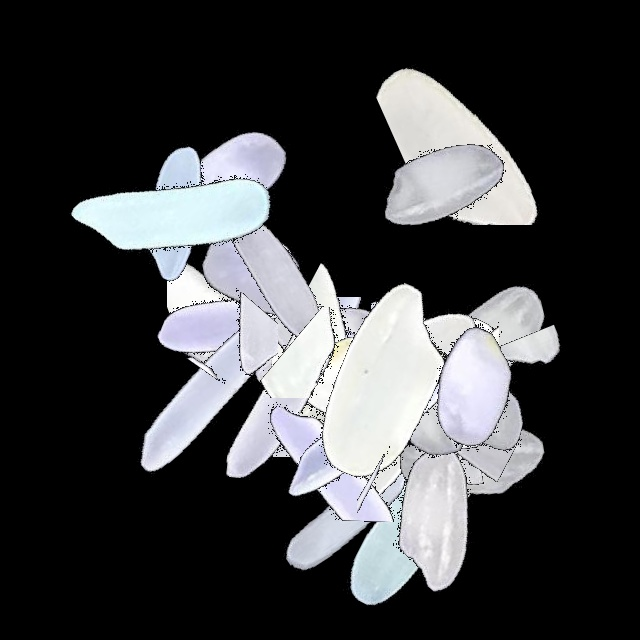Broken: (363, 54, 613, 225), (252, 311, 418, 561), (271, 252, 436, 502), (316, 344, 566, 499), (371, 223, 519, 473), (167, 169, 306, 419), (184, 328, 434, 457), (285, 361, 535, 486), (202, 292, 452, 417), (153, 227, 278, 477), (252, 297, 502, 418), (383, 227, 499, 477), (357, 390, 464, 640), (283, 223, 386, 473), (312, 331, 562, 433), (331, 356, 423, 606), (487, 257, 578, 507), (218, 307, 468, 398), (258, 373, 508, 463), (299, 382, 549, 471), (375, 238, 460, 488), (195, 339, 445, 421), (160, 343, 410, 419)
Full: (362, 213, 612, 463), (292, 390, 542, 640), (225, 390, 475, 640), (277, 239, 527, 489), (133, 207, 383, 457), (259, 292, 509, 542), (152, 212, 402, 462), (82, 267, 332, 517), (346, 337, 596, 587), (108, 48, 358, 298), (194, 225, 444, 475), (129, 150, 379, 400), (254, 254, 504, 504), (50, 85, 300, 335), (253, 275, 503, 525), (268, 268, 518, 518), (157, 268, 407, 518), (312, 390, 562, 640), (343, 273, 593, 523), (292, 266, 542, 516), (148, 145, 398, 395), (293, 268, 543, 518), (52, 84, 302, 334), (240, 307, 490, 557), (320, 60, 570, 310), (262, 259, 512, 509), (346, 261, 596, 511)
